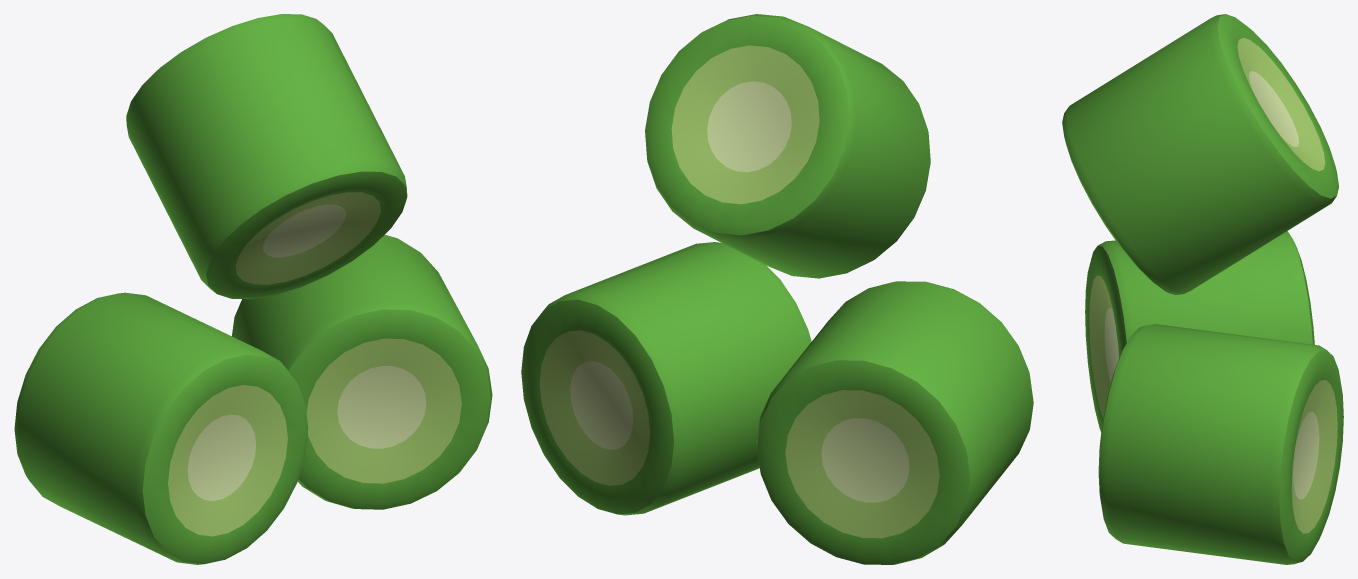
Rendered from Green_Onion_Pieces.fbx.
3 views of the same model, side by side, from view 1: azimuth 30°, elevation 25°; view 2: azimuth 150°, elevation 25°; view 3: azimuth 270°, elevation 25° (orthographic). The views are drawn at different scales.
Visible parts, largest first — view 1: Green_Onion_Pieces; view 2: Green_Onion_Pieces; view 3: Green_Onion_Pieces.
Part boxes in pixels (x1,y1,x2,y2): Green_Onion_Pieces: (14,14,492,564); Green_Onion_Pieces: (521,14,1033,564); Green_Onion_Pieces: (1062,14,1343,564).
Bounding box in the file's own units: 0.048 × 0.0503 × 0.0274.
